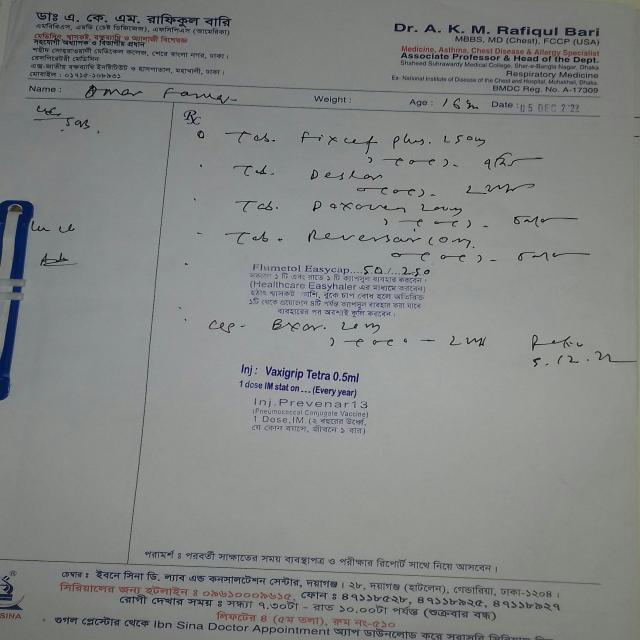Deslor: (301, 165, 388, 187)
Doxorin: (307, 197, 410, 217)
Exor: (266, 317, 332, 335)
Fixcef Plus: (296, 125, 436, 153)
Reversair: (303, 225, 424, 250)
